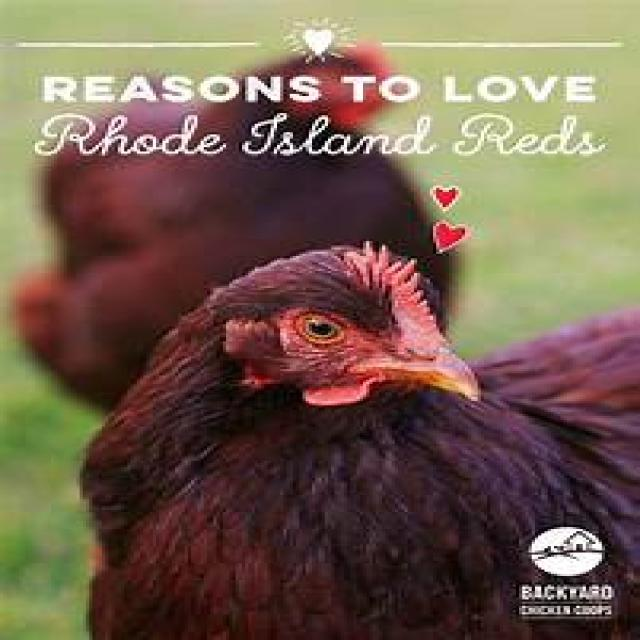chicken: (89, 245, 640, 638)
